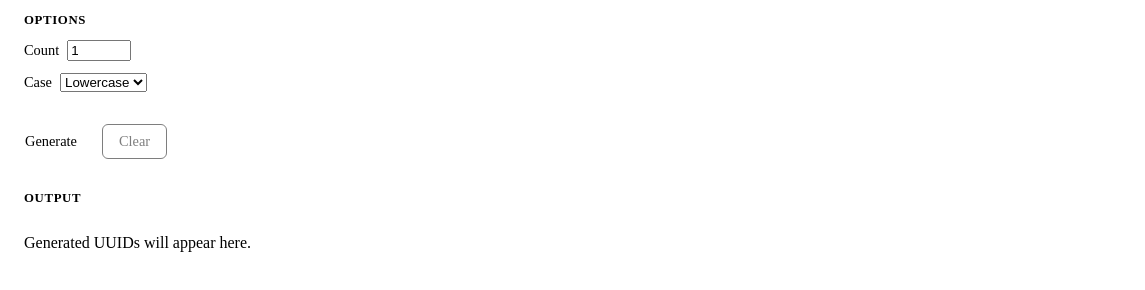
Test: UuidGeneratorTool › generates a UUID when Generate is pressed
Click the button "Generate".
click(51, 142)  # box [8, 124, 94, 159]
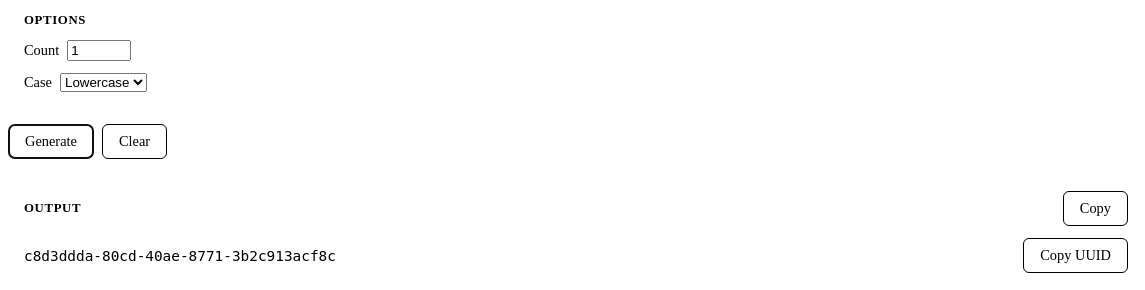
Result: the element with test id "uuid-output" is shown at [24, 238, 1128, 273]
